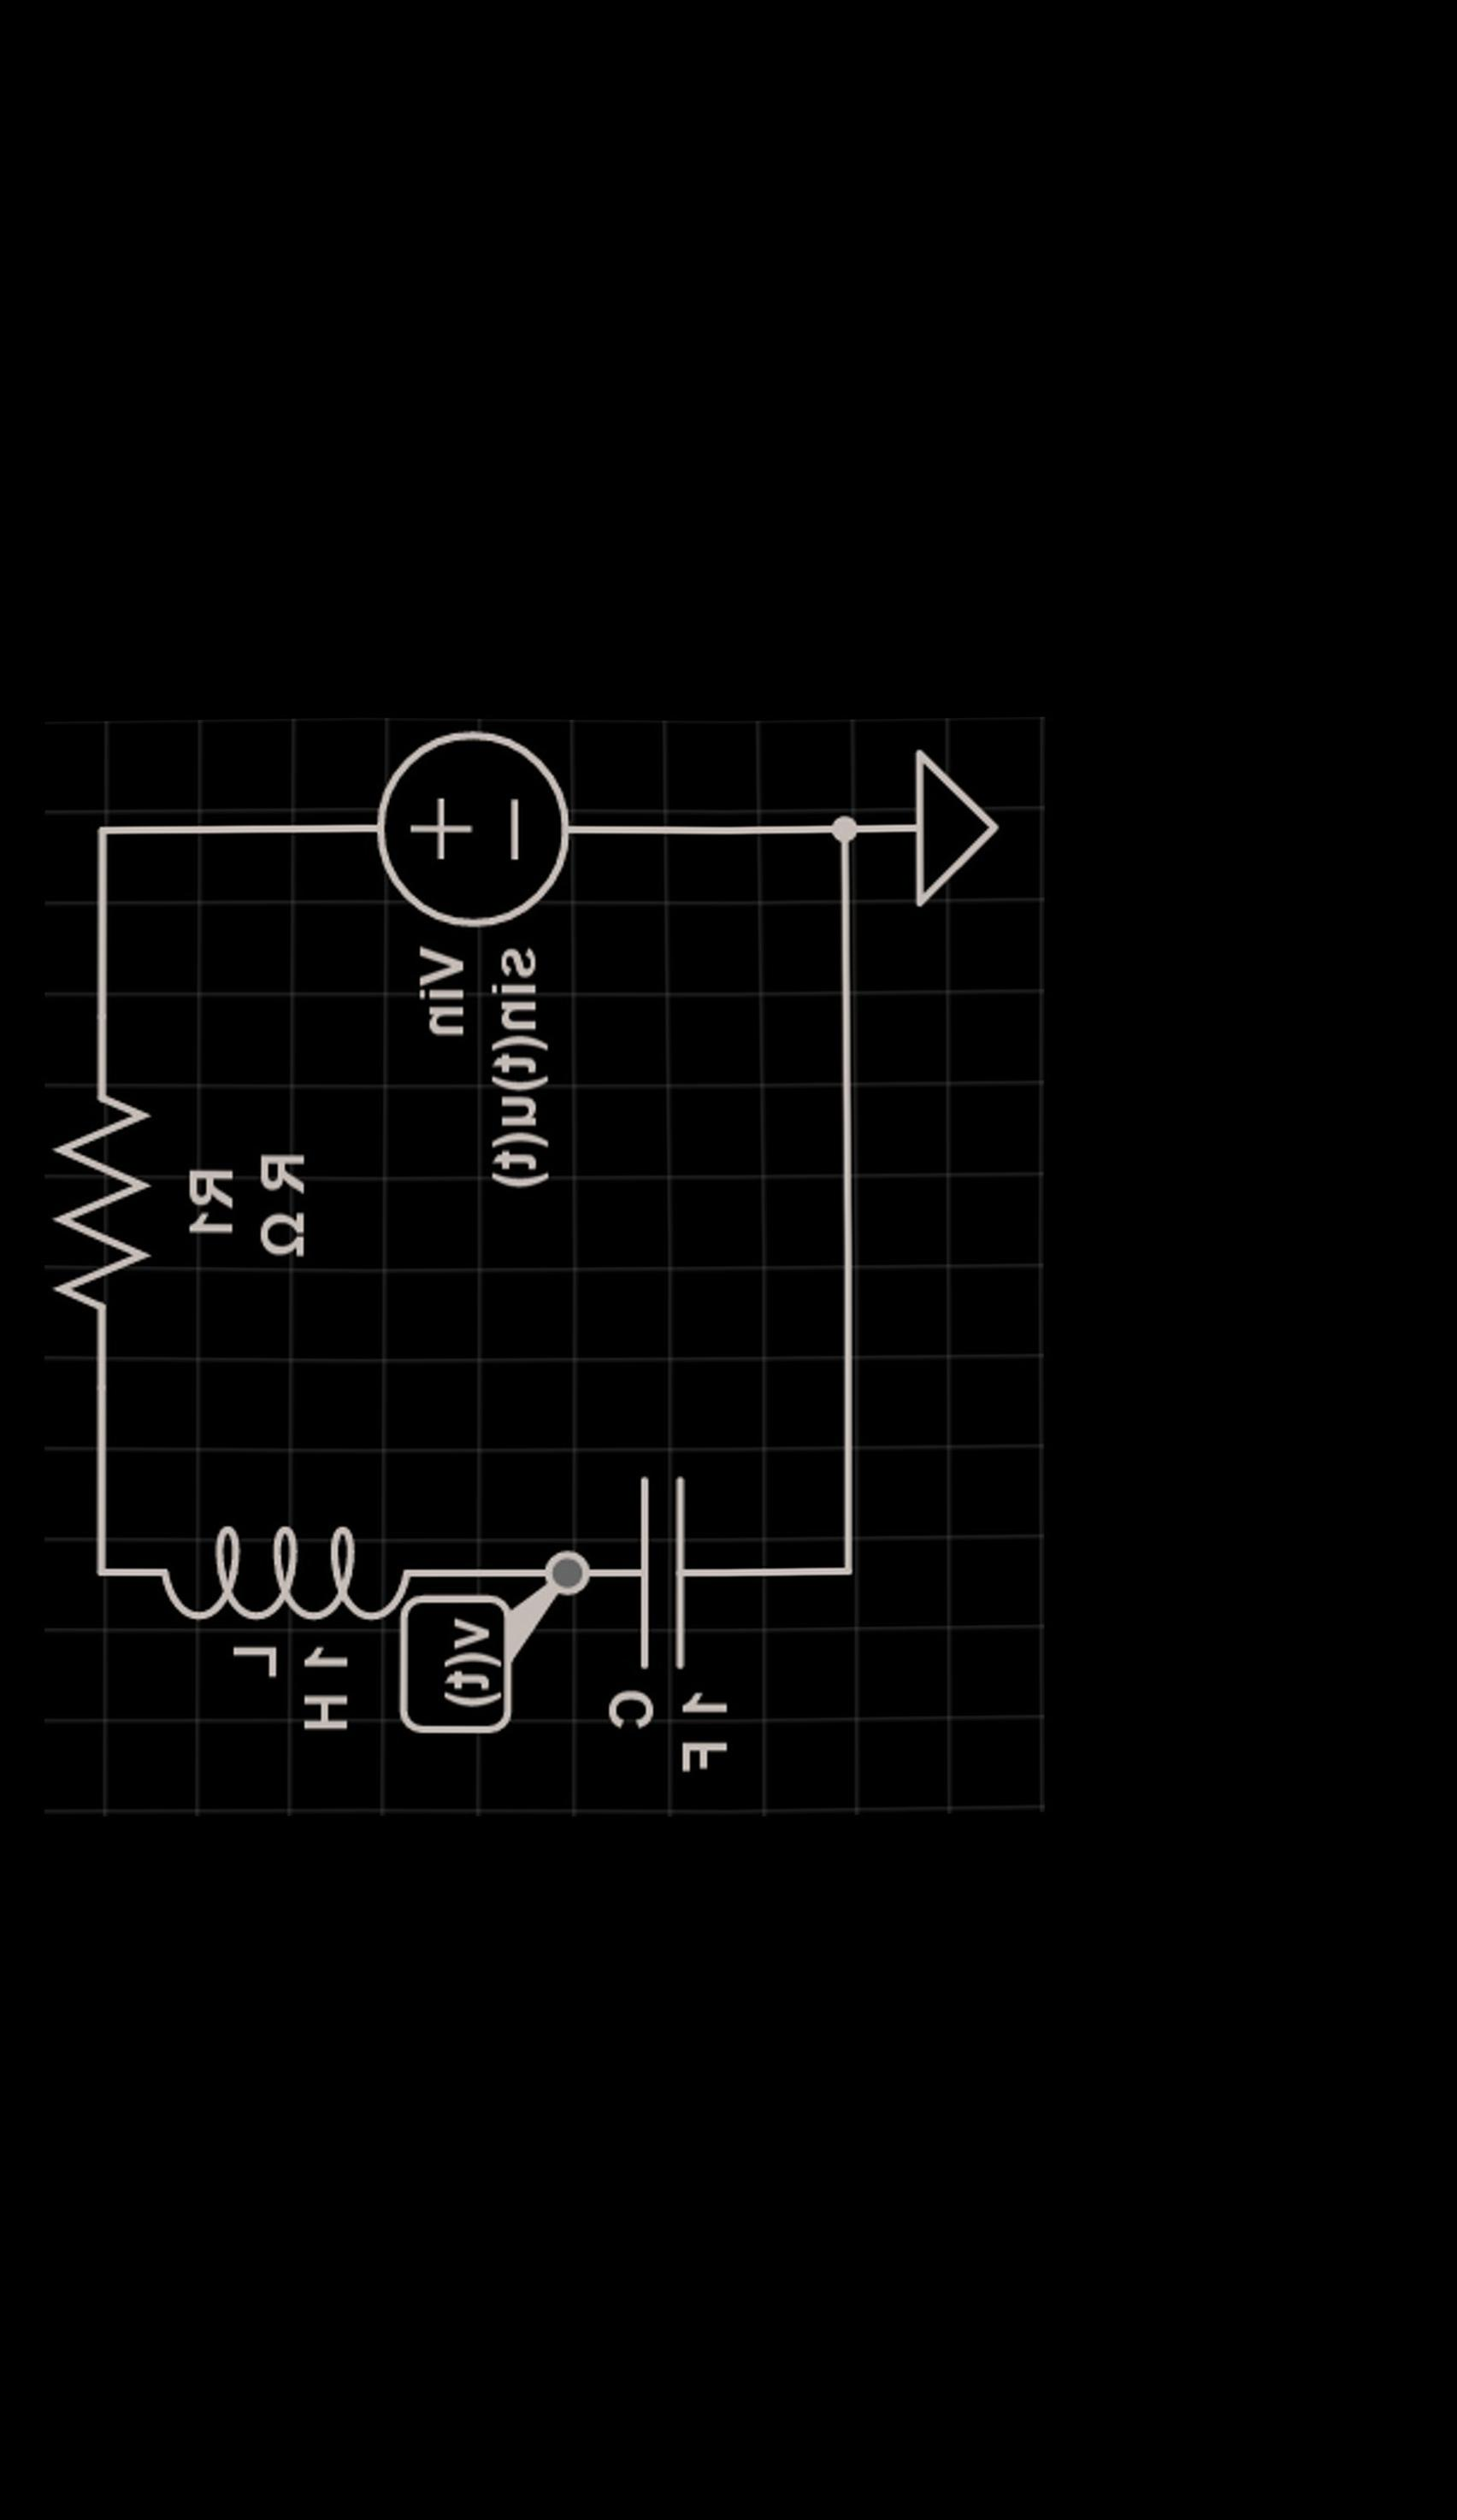Battery: (298, 664, 659, 943)
